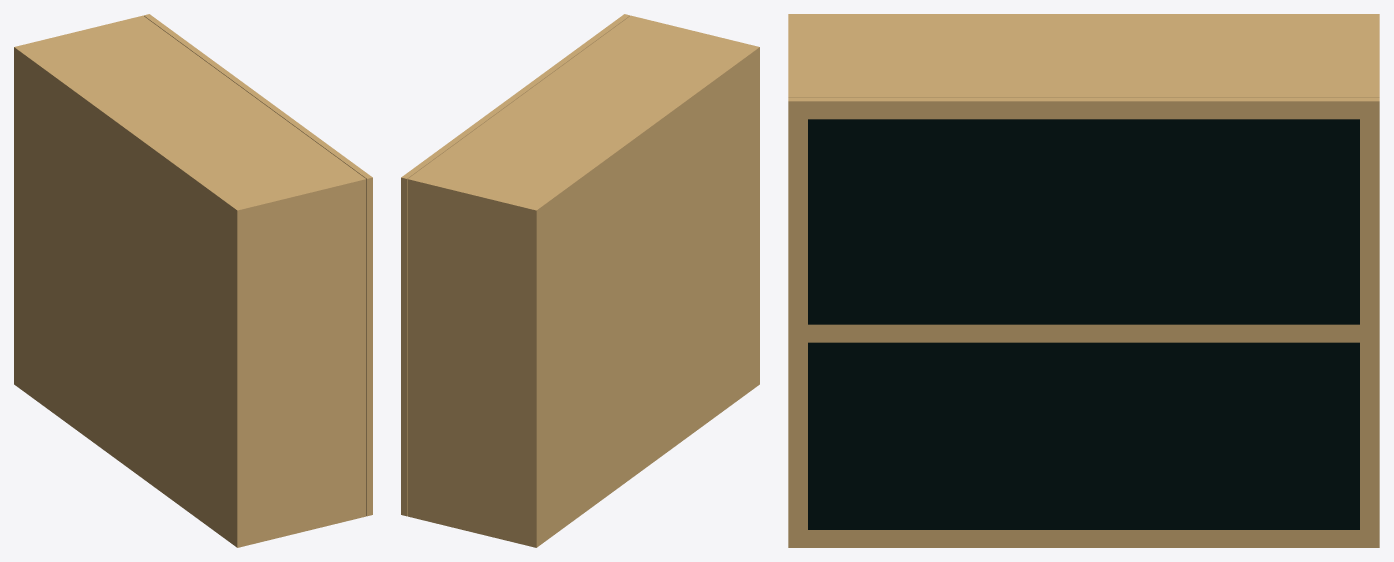
File: dispensa seconda versione.fbx
3 renders of one model, left to right at view 1: azimuth 30°, elevation 25°; view 2: azimuth 150°, elevation 25°; view 3: azimuth 270°, elevation 25°, orthographic. The views are drawn at different scales.
Parts seen in each view (by area): view 1: Body1, bordo (×2), Body7; view 2: Body1, bordo (×2), Body11; view 3: sportelli (×4), Body1, bordo (×2), Body11, Body7.
Part boxes in pixels (x1,y1,x2,y2): Body1: (14,15,366,547); bordo (×2): (143,14,372,354); Body7: (366,353,372,516); Body1: (407,15,759,547); bordo (×2): (401,14,630,354); Body11: (401,353,407,516); sportelli (×4): (808,119,1359,529); Body1: (788,14,1379,97); bordo (×2): (788,97,1379,333); Body11: (1084,333,1379,547); Body7: (788,333,1083,547).
Size of the model in its own units: 42 by 120 by 100.
